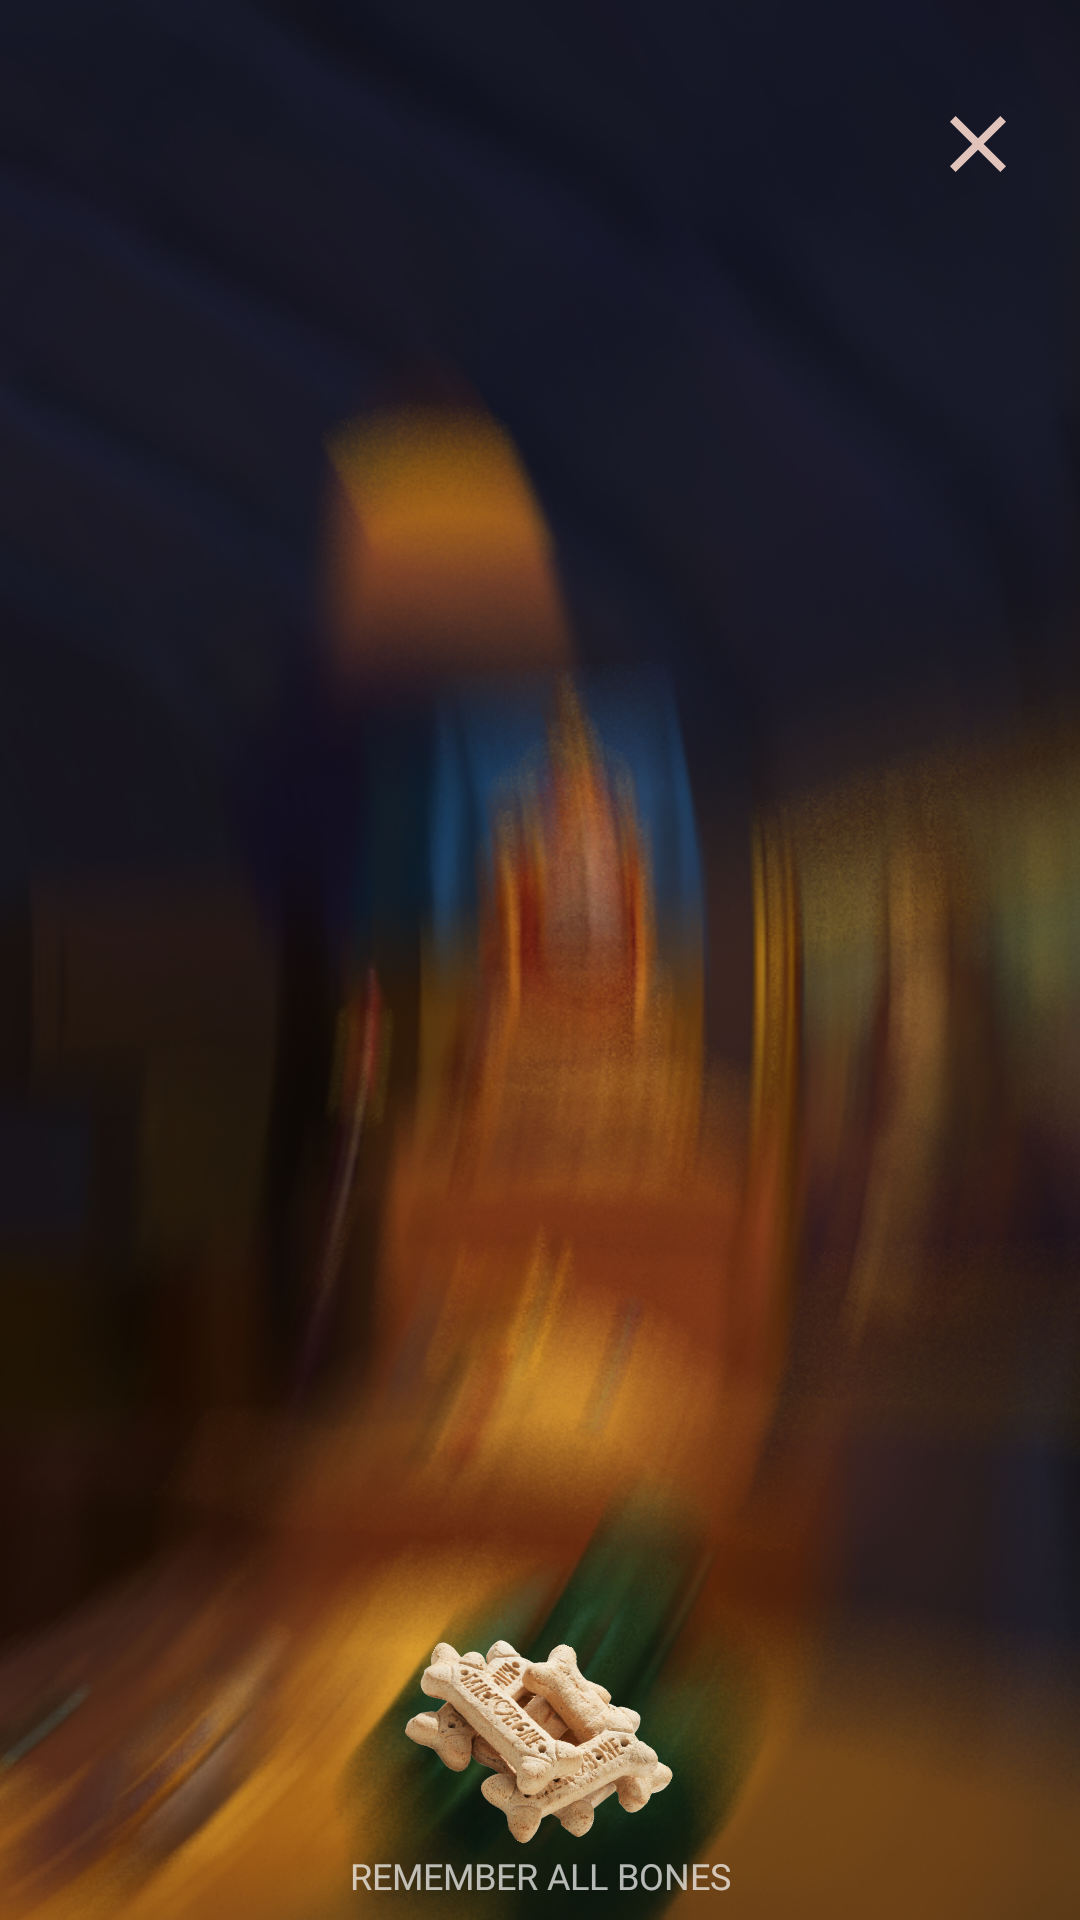

Icon bounding boxes for this 1080w x 1920h phone screenshot, format (left=x1, top=y1, right=x2, bottom=y2):
close: (left=950, top=116, right=1006, bottom=172)
